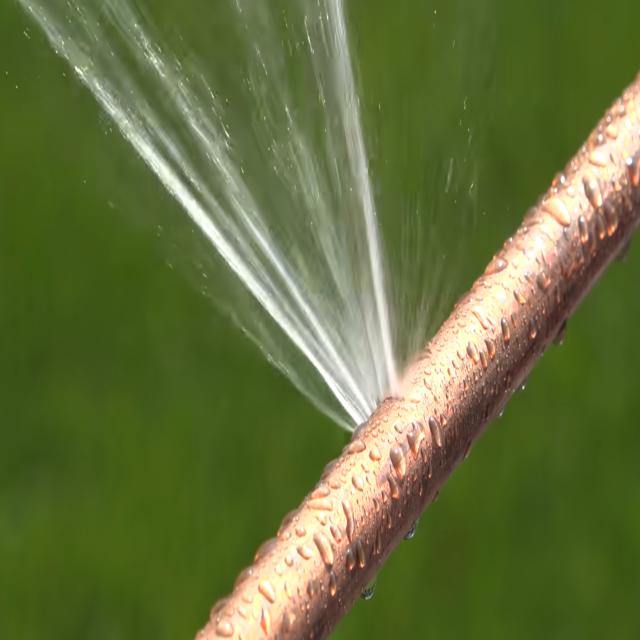leak: (24, 0, 398, 424)
